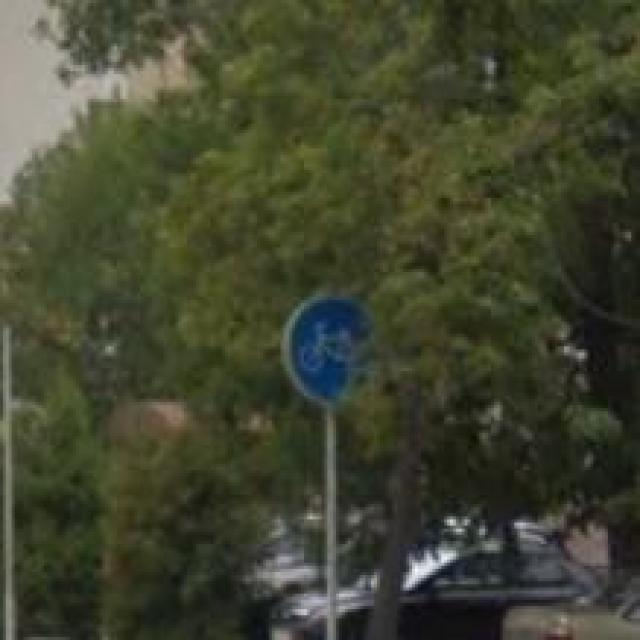bicycle: (283, 288, 380, 408)
